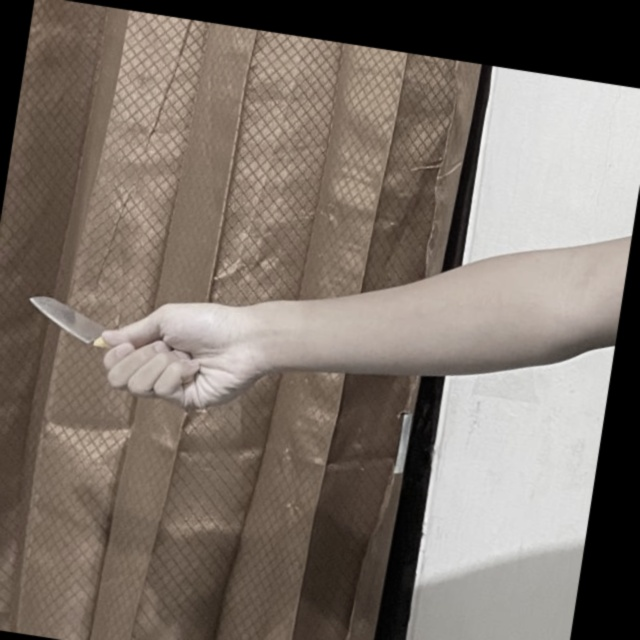Sharp-Object: (18, 292, 207, 390)
